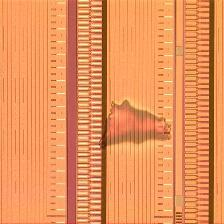PARTICLE: (96, 99, 175, 151)
